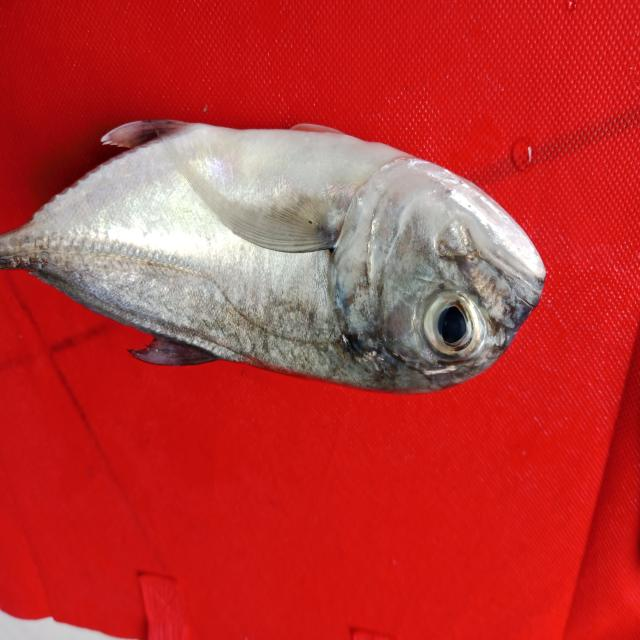ikan: (0, 106, 577, 412)
